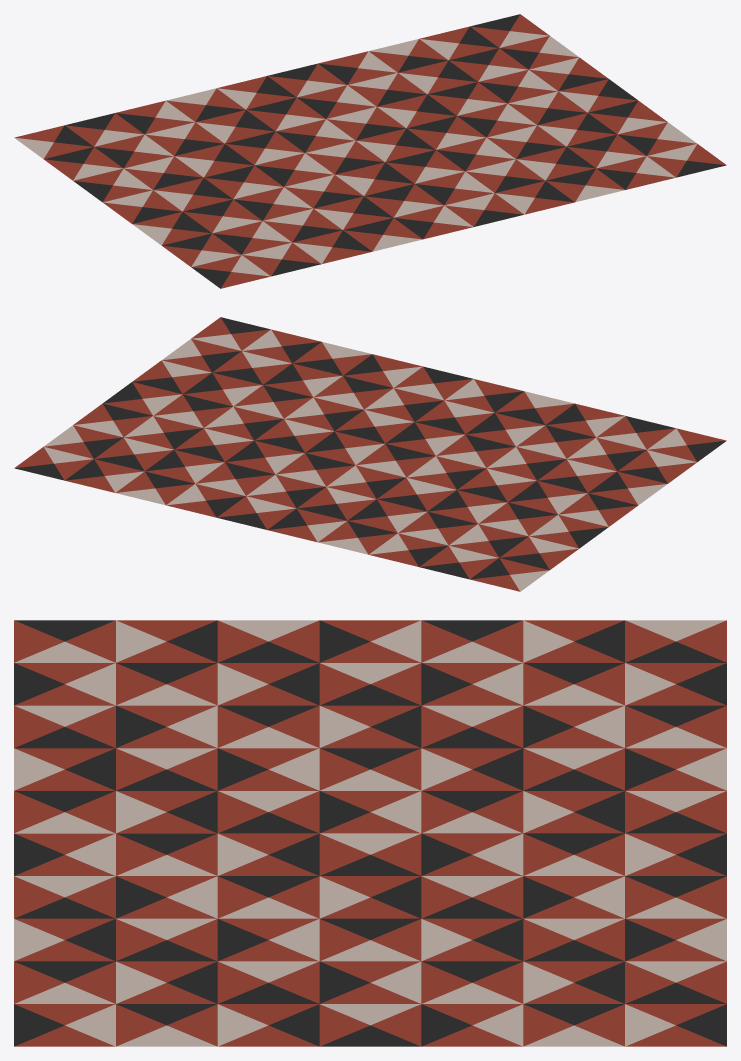
Rendered from Carpet_01.fbx.
3 renders of one model, top to bottom at view 1: azimuth 30°, elevation 25°; view 2: azimuth 150°, elevation 25°; view 3: azimuth 270°, elevation 25°, orthographic. The views are drawn at different scales.
Parts seen in each view (by area): view 1: Carpet_01; view 2: Carpet_01; view 3: Carpet_01.
Part boxes in pixels (x1,y1,x2,y2): Carpet_01: (14, 14, 726, 288); Carpet_01: (14, 317, 726, 591); Carpet_01: (14, 620, 726, 1046).
Size of the model in its own units: 1.22 by 1.47e-15 by 0.8634.
